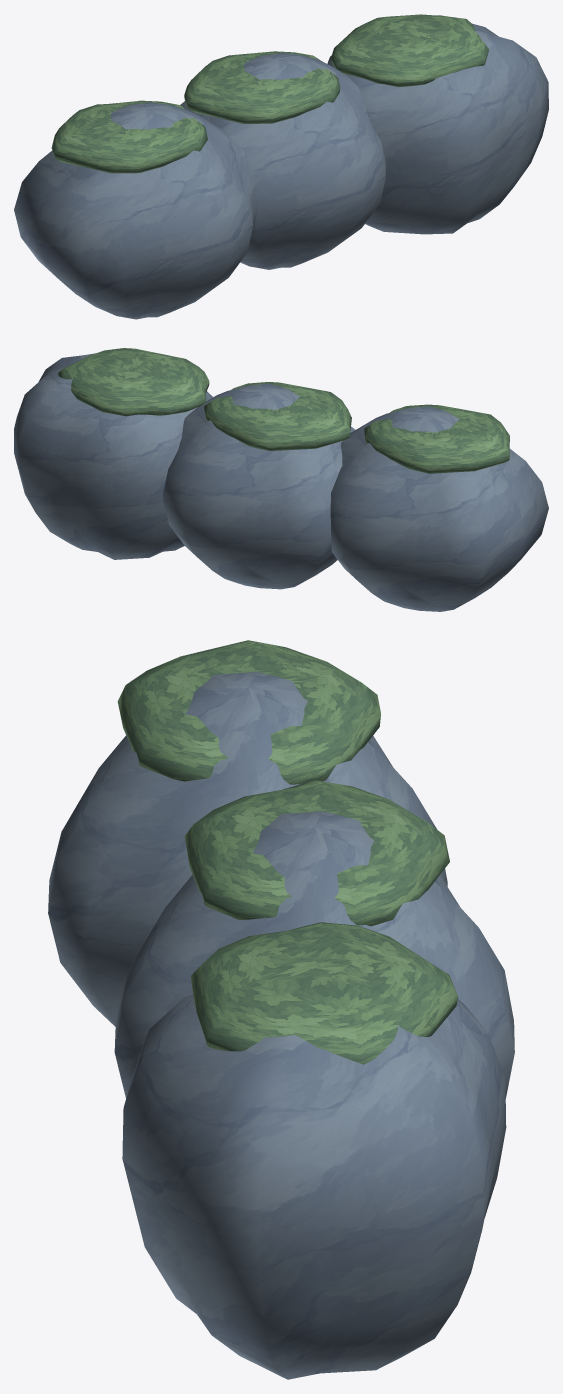
The model's file is rock_2.glb.
3 renders of one model, top to bottom at view 1: azimuth 30°, elevation 25°; view 2: azimuth 150°, elevation 25°; view 3: azimuth 270°, elevation 25°, orthographic. The views are drawn at different scales.
Parts seen in each view (by area): view 1: rock_2; view 2: rock_2; view 3: rock_2.
Boxes of the visible parts, x1,y1,x2,y2 form: rock_2: (14,14,548,319); rock_2: (14,348,548,611); rock_2: (48,640,514,1379).
Size of the model in its own units: 1.7 by 0.6458 by 0.7079.
1 material, 1 textured.
